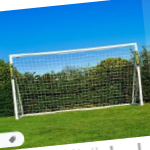goals: (8, 42, 144, 122)
